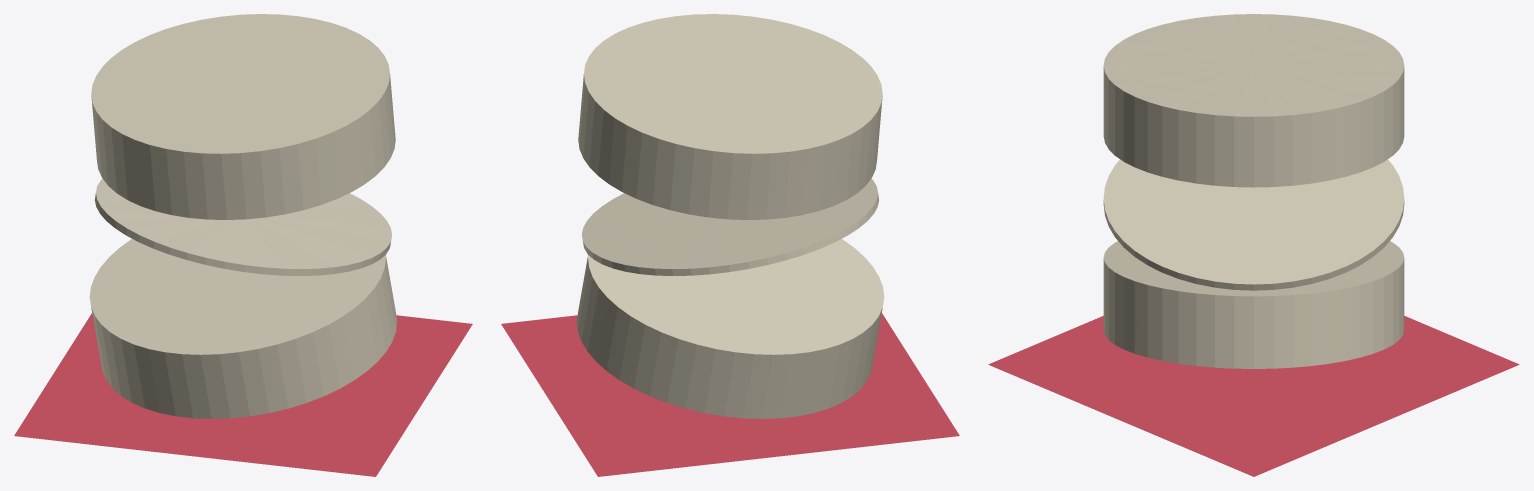
File: VVV.glb
The picture shows the model from 3 angles, left to right: view 1: azimuth 30°, elevation 25°; view 2: azimuth 150°, elevation 25°; view 3: azimuth 270°, elevation 25°; orthographic projection.
Parts seen in each view (by area): view 1: Mesh_Mesh_head_geo.001_lambert2SG.001; view 2: Mesh_Mesh_head_geo.001_lambert2SG.001; view 3: Mesh_Mesh_head_geo.001_lambert2SG.001.
Part boxes in pixels (bbox=[...]): Mesh_Mesh_head_geo.001_lambert2SG.001: bbox=[14, 14, 472, 476]; Mesh_Mesh_head_geo.001_lambert2SG.001: bbox=[501, 14, 959, 476]; Mesh_Mesh_head_geo.001_lambert2SG.001: bbox=[988, 14, 1519, 476].
Bounding box in the file's own units: 0.0354 × 0.0227 × 0.0354.
